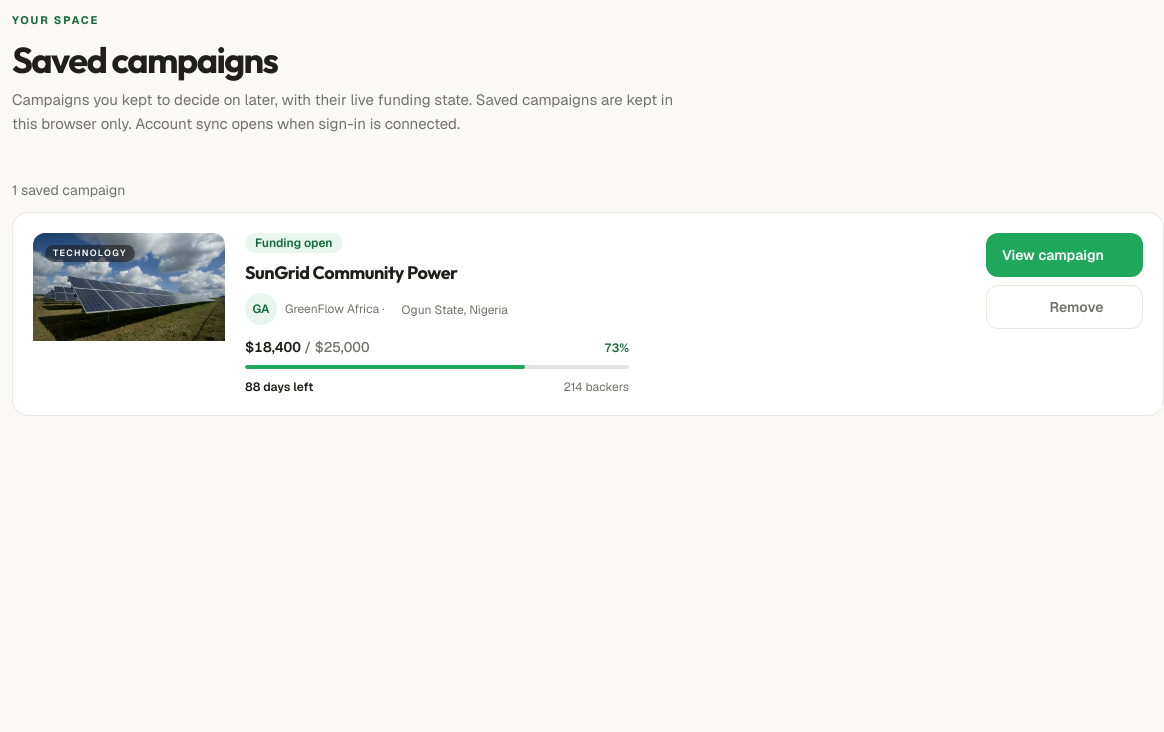
SavedCampaignsDashboard › removes a campaign only after the write lands
The image size is (1164, 732).
What coordinates should you click on to do the following:
click the button "Remove"
I would click on:
 (1064, 306)
Its box is [986,284,1143,328].
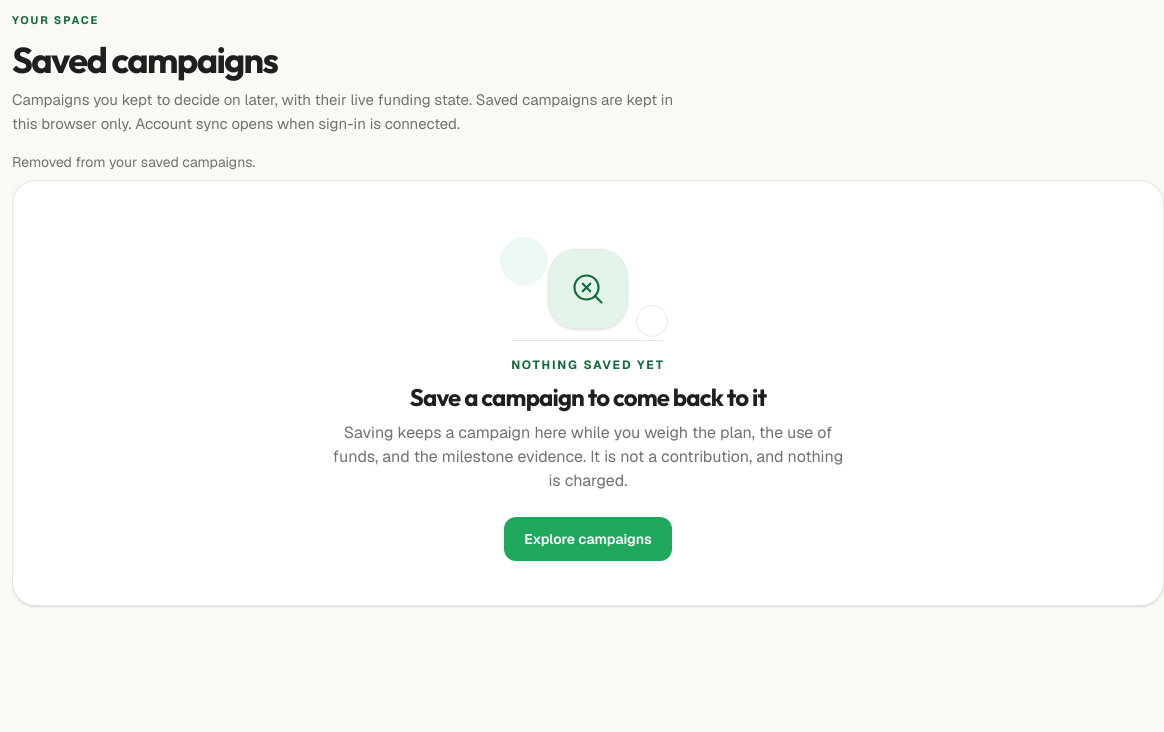
Expected: the message reads "Removed from your saved campaigns.", [12,152,255,170]
Expected: the heading "Save a campaign to come back to it" is shown, [410,382,766,412]
